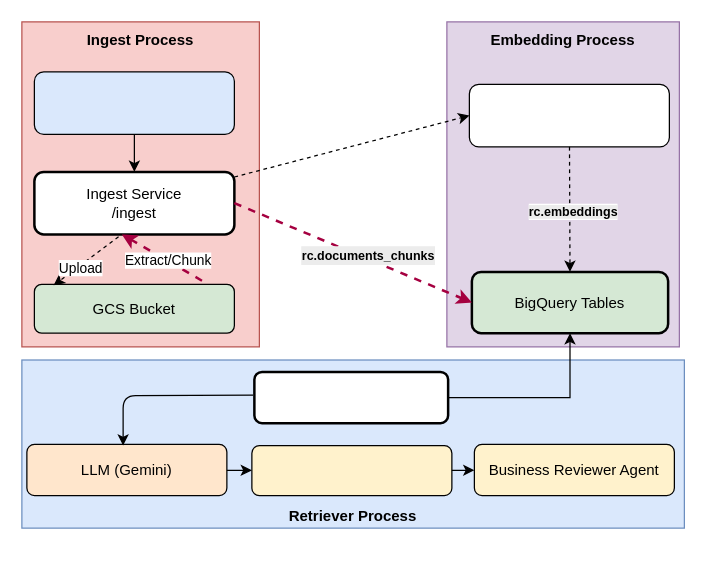
The diagram is 706 pixels wide and 565 high, and some of its shapes have lost their labels. The centre of each missing label's shape, as x and y in pixels:
"Embedder Service /embed" goes at [568,115].
"Frontend UI" goes at [133,102].
"Retriever Service" goes at [350,397].
"Validator Agent" goes at [351,470].
